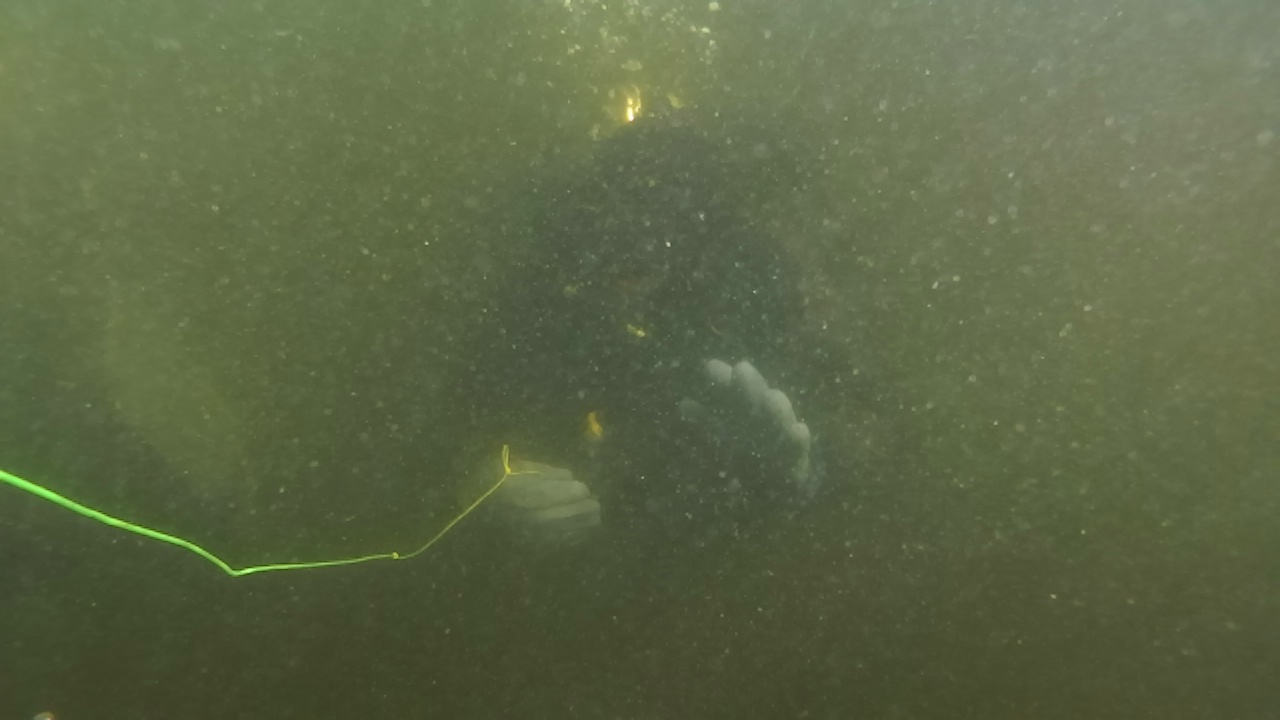Diver: (388, 92, 868, 588)
Hand: (666, 324, 826, 534), (442, 436, 598, 556)
